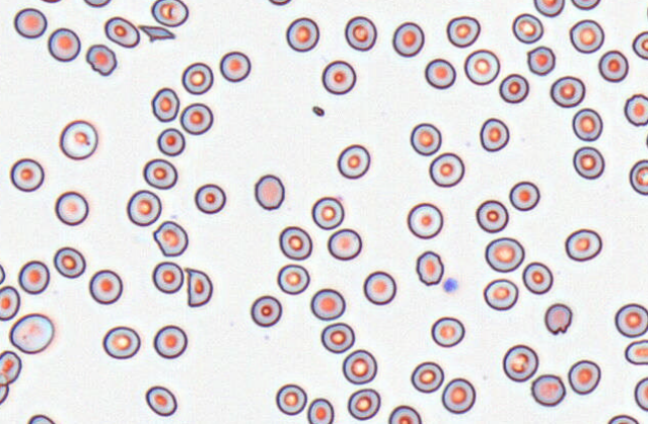PLT: (443, 276, 462, 295)
RBC: (8, 313, 54, 354), (58, 119, 98, 160), (484, 236, 524, 272), (406, 202, 443, 239), (463, 48, 500, 85), (502, 344, 538, 382), (126, 189, 161, 226), (102, 325, 140, 359), (341, 349, 377, 384), (428, 152, 464, 187), (441, 377, 475, 414), (564, 228, 602, 261), (321, 59, 356, 94), (9, 157, 44, 192), (567, 359, 601, 395), (336, 143, 370, 179), (614, 302, 648, 337), (278, 225, 312, 260), (54, 190, 88, 225), (88, 269, 122, 304), (569, 19, 604, 53), (285, 17, 319, 52), (253, 173, 285, 210), (153, 324, 187, 358), (530, 373, 565, 406), (363, 270, 396, 305), (104, 16, 140, 48), (344, 15, 376, 51), (392, 21, 424, 57), (47, 27, 80, 61), (311, 196, 344, 230), (475, 199, 508, 233), (179, 102, 213, 135), (483, 278, 518, 310), (310, 288, 345, 320), (327, 228, 362, 260), (18, 259, 50, 294), (550, 75, 585, 107), (410, 361, 444, 393), (446, 15, 480, 47), (142, 158, 177, 189), (151, 261, 184, 293), (347, 388, 380, 420), (409, 122, 441, 155), (572, 146, 604, 179), (320, 322, 354, 353), (13, 7, 47, 38), (430, 316, 464, 347), (571, 107, 602, 141), (150, 0, 188, 27), (275, 383, 307, 415), (53, 246, 85, 278), (250, 295, 282, 327), (181, 62, 213, 94), (219, 50, 251, 82), (276, 263, 309, 294), (522, 261, 553, 294), (479, 117, 509, 151), (415, 250, 444, 285), (145, 385, 177, 416), (424, 58, 456, 89), (194, 183, 226, 214), (598, 49, 628, 82), (151, 87, 179, 122), (508, 180, 539, 211), (511, 13, 543, 43), (498, 73, 529, 103), (526, 45, 555, 75), (156, 127, 185, 156), (624, 93, 648, 126), (0, 350, 21, 385), (307, 397, 334, 423), (0, 285, 20, 320), (629, 159, 648, 195), (388, 404, 421, 423), (624, 339, 648, 365), (533, 0, 565, 17), (634, 376, 648, 411), (632, 30, 647, 60), (606, 414, 639, 424), (570, 0, 601, 10), (26, 414, 55, 424), (0, 383, 9, 405), (83, 0, 111, 7), (0, 260, 5, 285), (267, 0, 292, 5), (645, 127, 648, 152), (39, 0, 62, 3), (646, 0, 648, 20)
Schistocyte: (152, 221, 191, 258), (184, 265, 213, 309), (86, 44, 117, 76), (545, 303, 573, 336), (137, 23, 176, 44)
